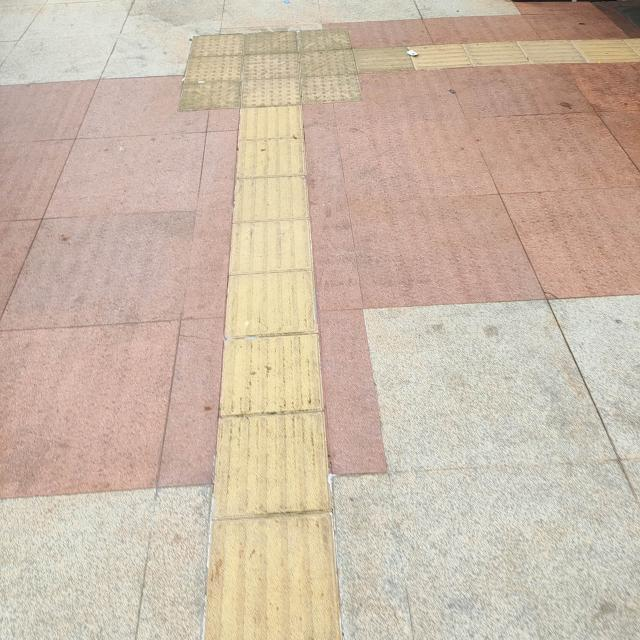kanan: (184, 24, 487, 124)
